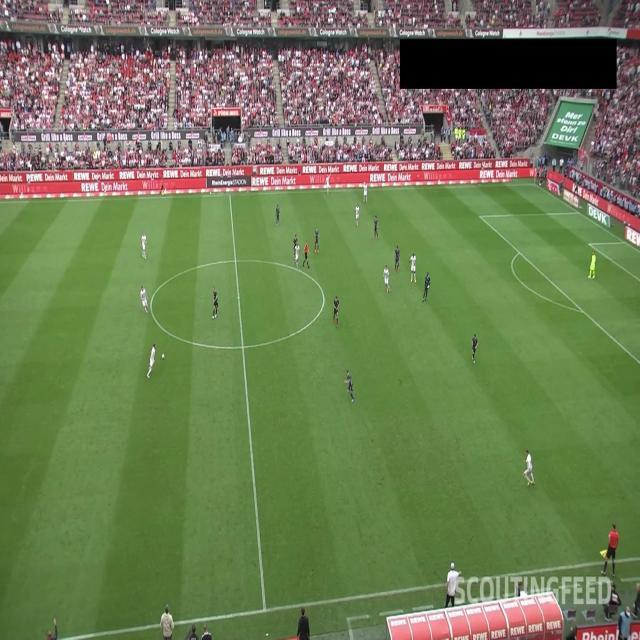ball: (161, 353, 165, 360)
goalkeeper: (588, 250, 596, 280)
player: (523, 449, 536, 487), (147, 342, 157, 379), (345, 370, 355, 403), (140, 285, 149, 316), (423, 272, 431, 302), (409, 253, 417, 283), (333, 295, 340, 328), (212, 287, 219, 319), (472, 333, 479, 364), (383, 265, 390, 294), (294, 242, 301, 269), (314, 226, 320, 254), (141, 232, 147, 259), (325, 172, 332, 195), (355, 203, 361, 228), (395, 245, 400, 273), (293, 233, 299, 255), (374, 214, 379, 239), (275, 203, 280, 226), (363, 181, 368, 203)
referee: (600, 522, 619, 576), (302, 241, 311, 268), (160, 176, 165, 197)
